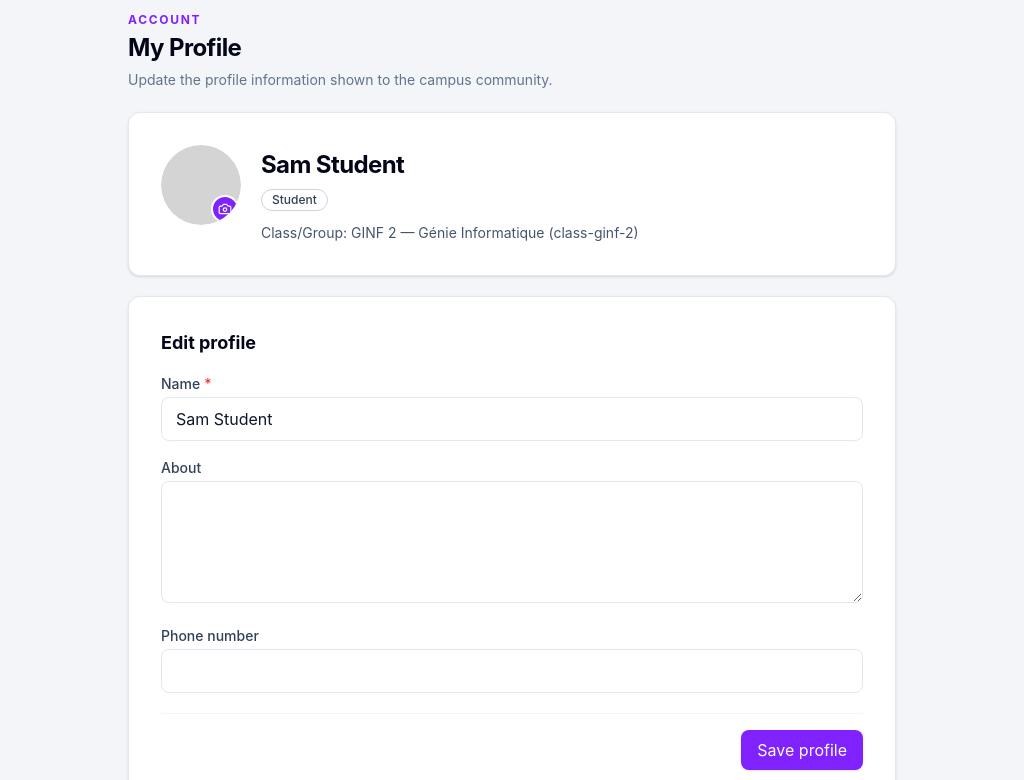
user profiles › lets the user save a second profile picture after the first one
Earlier steps of the test are not shown.
Later steps or results of the test are not shown.
Click the button "Save profile" at {"x": 802, "y": 750}, box [741,730,863,770]
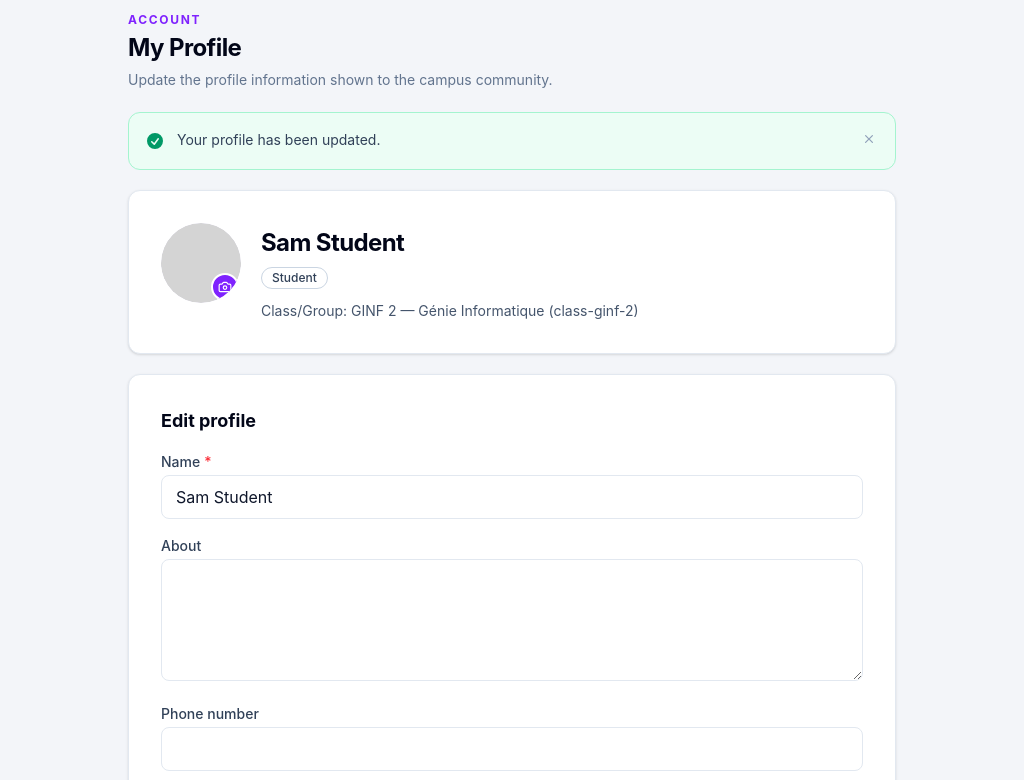
Expected: the text "Your profile has been updated." is shown, [177,131,380,148]
